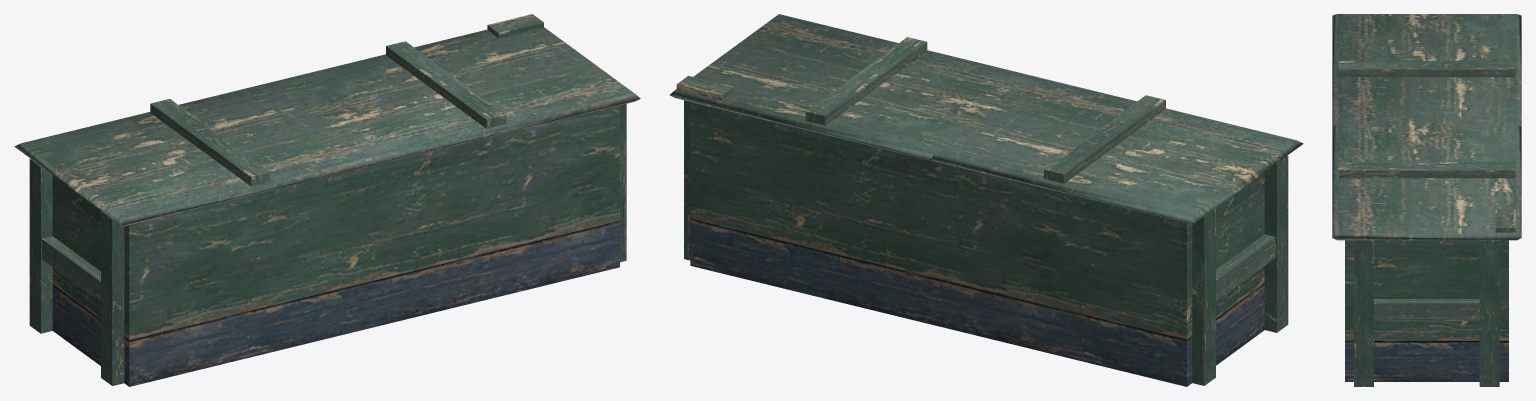
The model's file is Prop_Woodbox2.glb.
The picture shows the model from 3 angles, left to right: view 1: azimuth 30°, elevation 25°; view 2: azimuth 150°, elevation 25°; view 3: azimuth 270°, elevation 25°; orthographic projection. The views are drawn at different scales.
Parts seen in each view (by area): view 1: xiutz_woodbox2; view 2: xiutz_woodbox2; view 3: xiutz_woodbox2.
Boxes of the visible parts, left/top/right/bottom form: xiutz_woodbox2: left=14, top=14, right=640, bottom=386; xiutz_woodbox2: left=669, top=14, right=1303, bottom=386; xiutz_woodbox2: left=1332, top=14, right=1521, bottom=386.
Size of the model in its own units: 3.77 by 1.27 by 1.35.
1 material, 1 textured.
